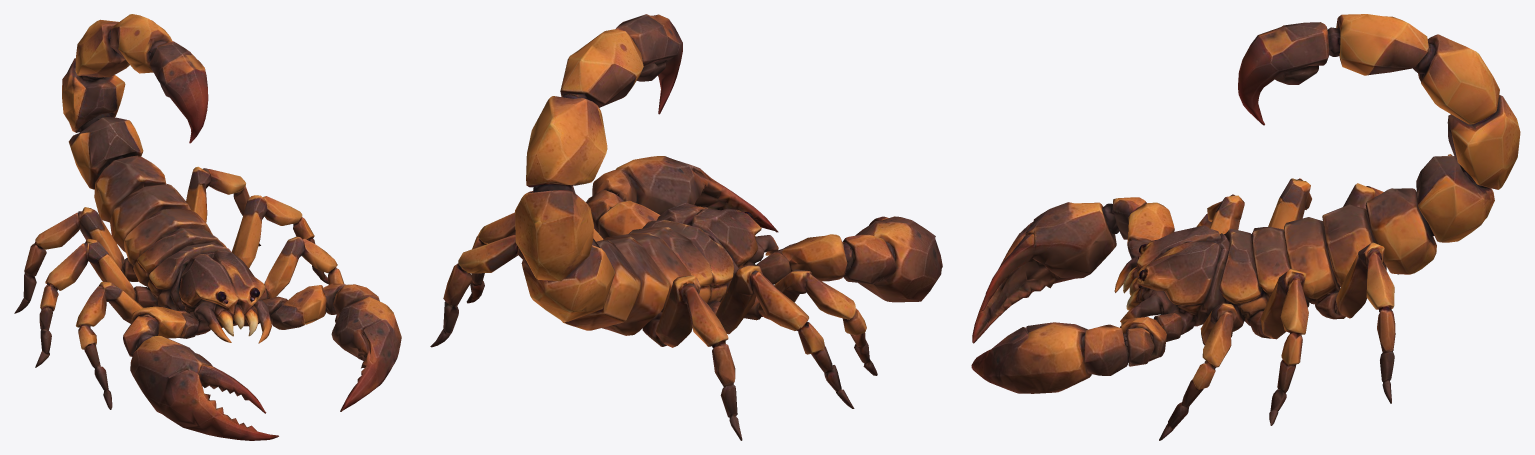
The model's file is poison-scorpion.glb.
The picture shows the model from 3 angles, left to right: view 1: azimuth 30°, elevation 25°; view 2: azimuth 150°, elevation 25°; view 3: azimuth 270°, elevation 25°; orthographic projection. The views are drawn at different scales.
Visible parts, largest first — view 1: tripo_node_21cc1935-f020-4761-9f34-1dd3aae5f35d; view 2: tripo_node_21cc1935-f020-4761-9f34-1dd3aae5f35d; view 3: tripo_node_21cc1935-f020-4761-9f34-1dd3aae5f35d.
Boxes of the visible parts, <box> form: tripo_node_21cc1935-f020-4761-9f34-1dd3aae5f35d: <box>14,14,401,440</box>; tripo_node_21cc1935-f020-4761-9f34-1dd3aae5f35d: <box>430,14,942,440</box>; tripo_node_21cc1935-f020-4761-9f34-1dd3aae5f35d: <box>971,14,1520,440</box>.
Bounding box in the file's own units: 0.7398 × 0.7041 × 0.9799.
Materials: 1 (1 with a texture image).
